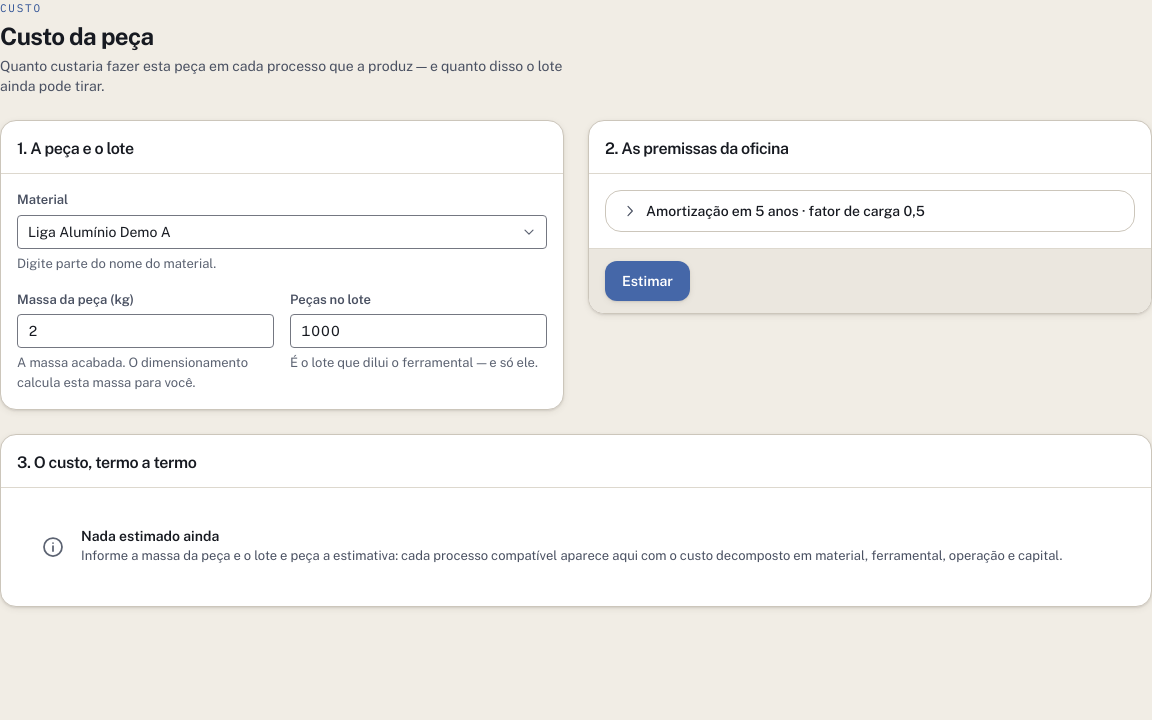
Test: Custo da peça › mostra os quatro termos, não só o total
Check: the heading "1. A peça e o lote" is shown, box [17, 137, 134, 161]
Click the button "Estimar" at (648, 281), box [605, 261, 690, 301]
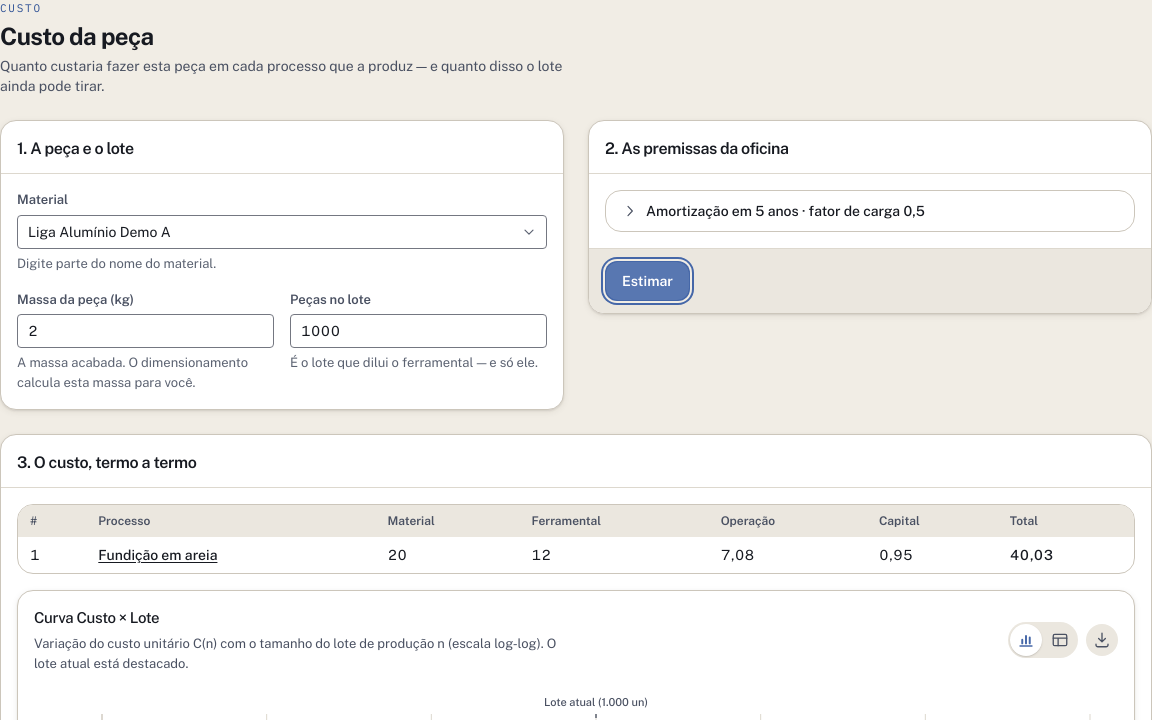
Check: the text "20" is shown, box [376, 537, 520, 573]
Check: the text "12" is shown, box [519, 537, 709, 573]
Check: the text "7,08" is shown, box [709, 537, 867, 573]
